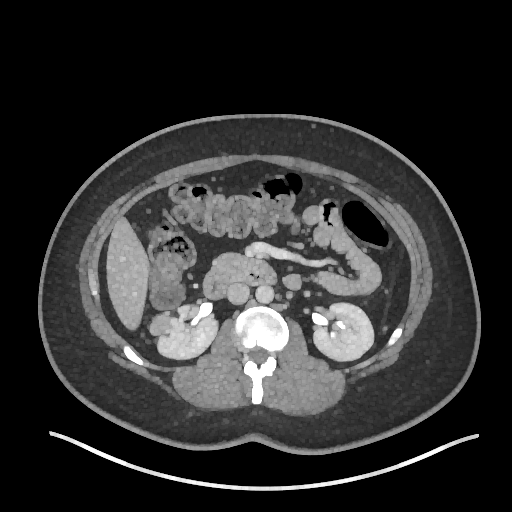Lesion: (146, 311, 177, 339)
